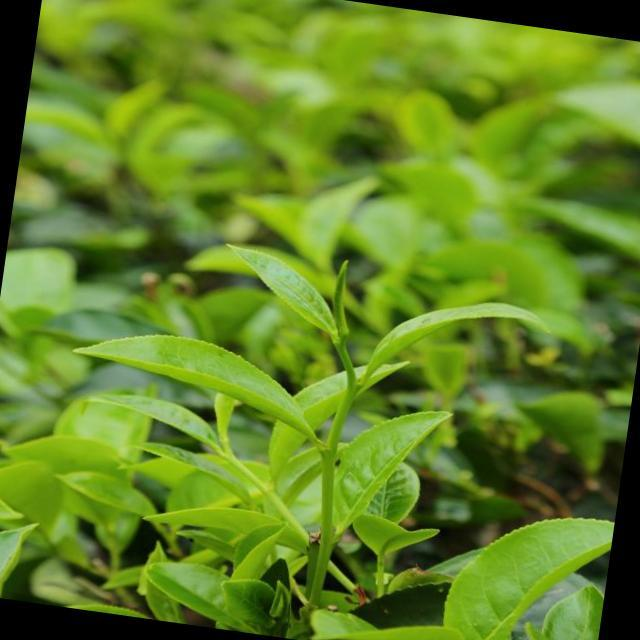Stem: (348, 382, 361, 391)
